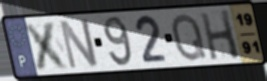2: (133, 13, 171, 66)
9: (101, 15, 134, 68)
H: (199, 8, 243, 62)
N: (58, 17, 100, 71)
Q: (170, 12, 209, 64)
X: (22, 20, 72, 72)
